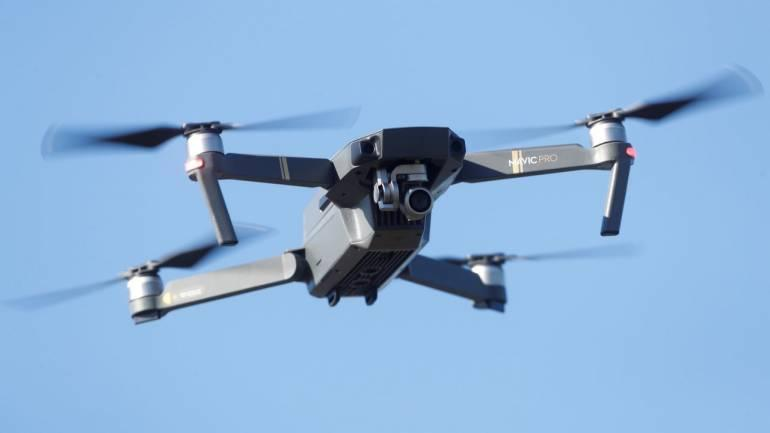drone: (45, 85, 713, 328)
